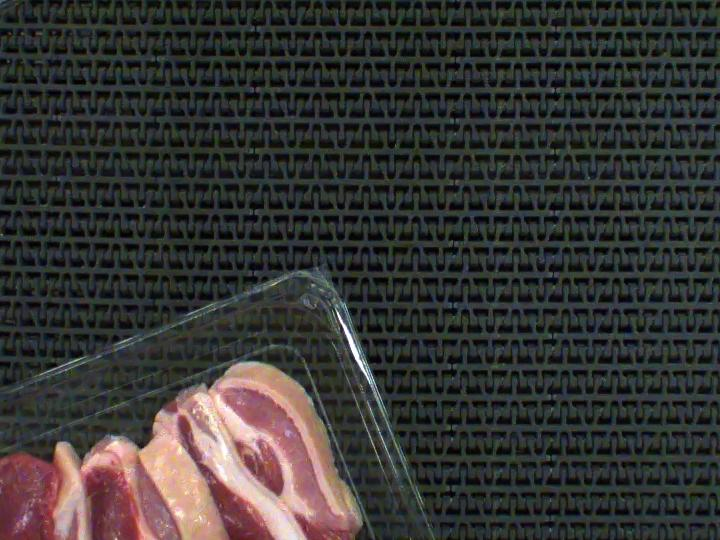twisted-meat: (128, 421, 246, 540)
